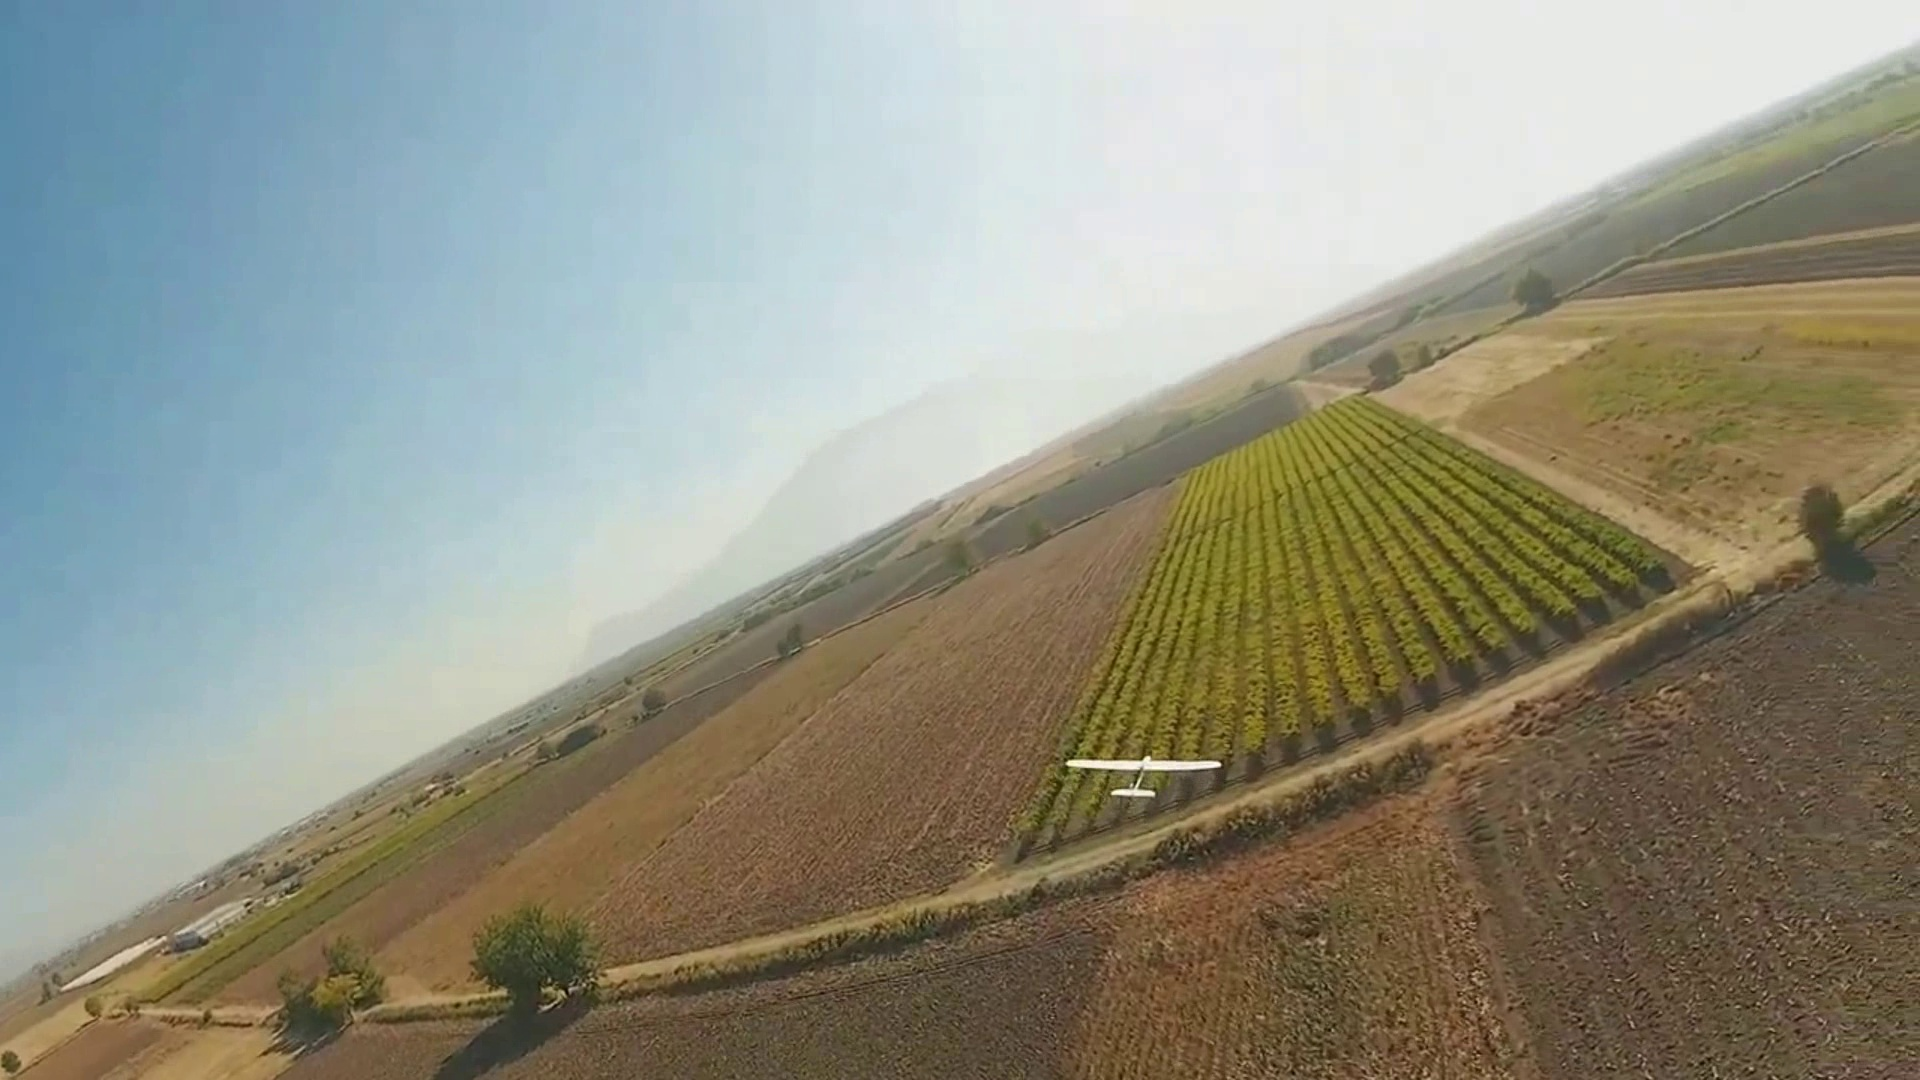airplane: (41, 42, 1917, 984)
